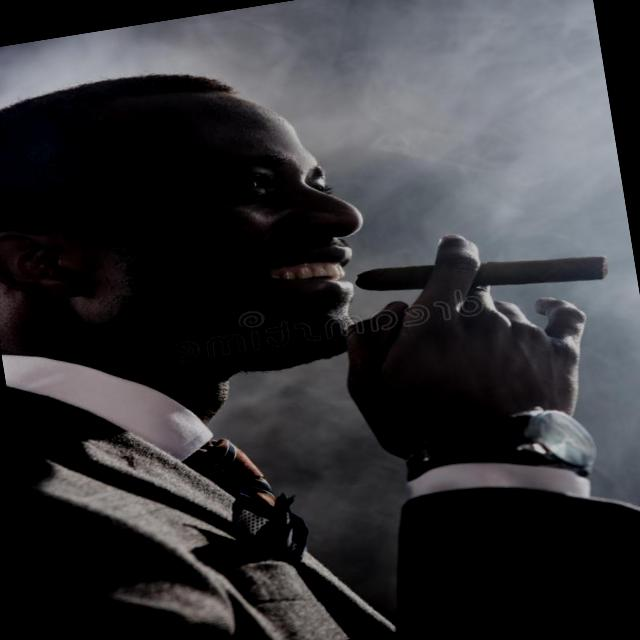smoke: (344, 231, 625, 317)
